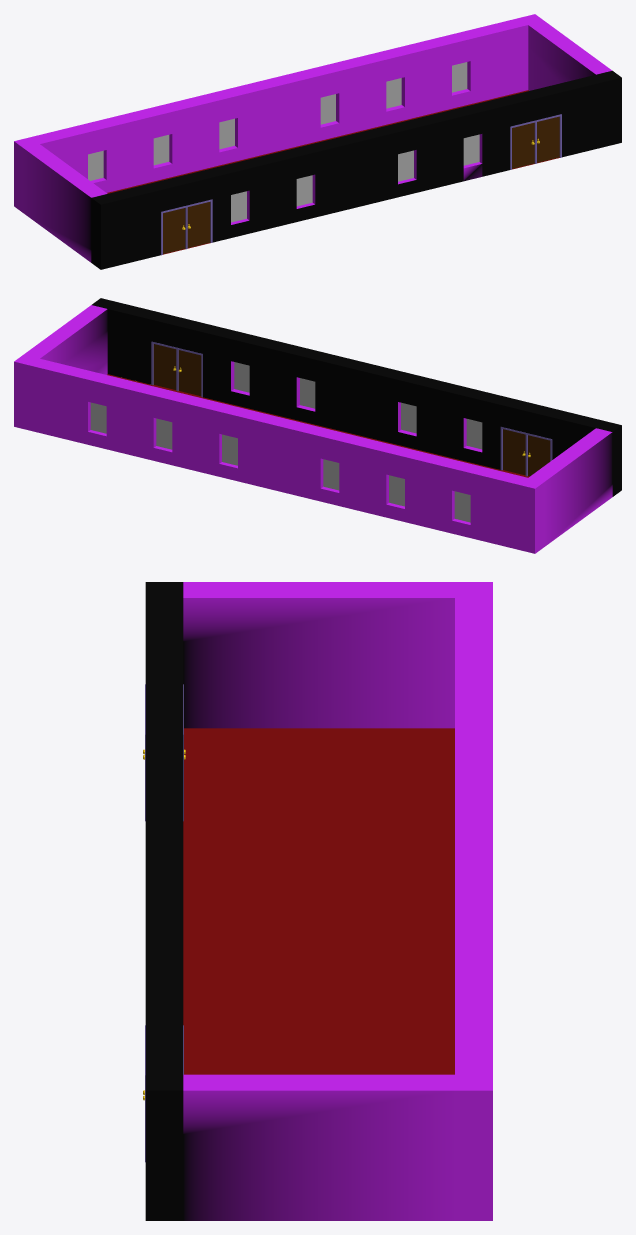
File: WR Walls Windows Floor Double Doors.fbx
The picture shows the model from 3 angles, top to bottom: view 1: azimuth 30°, elevation 25°; view 2: azimuth 150°, elevation 25°; view 3: azimuth 270°, elevation 25°; orthographic projection. The views are drawn at different scales.
Visible parts, largest first — view 1: WR1 Front Wall w Windows, WR1 Double Doors 1, WR1 Double Doors 2, WR1 Floor, WR1 Front Window1, WR1 Front Window3, WR1 Back Window4, WR1 Double Doorway 1, WR1 Double Doorway 2, WR1 Front Window0, WR1 Front Window2, WR1 Back Window1 (+4 smaller); view 2: WR1 Front Wall w Windows, WR1 Double Doors 2, WR1 Double Doors 1, WR1 Floor, WR1 Back Window0, WR1 Back Window1, WR1 Back Window3, WR1 Back Window5, WR1 Front Window0, WR1 Double Doorway 2, WR1 Back Window2, WR1 Back Window4 (+4 smaller); view 3: WR1 Front Wall w Windows, WR1 Floor.
Part boxes in pixels (<box>): WR1 Front Wall w Windows: <box>14,14,621,269</box>; WR1 Double Doors 1: <box>163,202,210,253</box>; WR1 Double Doors 2: <box>512,116,559,168</box>; WR1 Floor: <box>107,90,559,254</box>; WR1 Front Window1: <box>296,175,312,206</box>; WR1 Front Window3: <box>463,134,479,165</box>; WR1 Back Window4: <box>153,135,169,165</box>; WR1 Double Doorway 1: <box>161,199,212,255</box>; WR1 Double Doorway 2: <box>510,114,561,169</box>; WR1 Front Window0: <box>231,191,246,222</box>; WR1 Front Window2: <box>398,150,413,181</box>; WR1 Back Window1: <box>386,78,401,108</box>; WR1 Front Wall w Windows: <box>14,298,621,553</box>; WR1 Double Doors 2: <box>153,344,201,396</box>; WR1 Double Doors 1: <box>503,429,550,476</box>; WR1 Floor: <box>107,374,529,477</box>; WR1 Back Window0: <box>90,402,106,433</box>; WR1 Back Window1: <box>156,418,172,449</box>; WR1 Back Window3: <box>323,459,339,490</box>; WR1 Back Window5: <box>454,491,470,522</box>; WR1 Front Window0: <box>466,419,482,449</box>; WR1 Double Doorway 2: <box>151,341,202,397</box>; WR1 Back Window2: <box>222,434,237,465</box>; WR1 Back Window4: <box>389,475,404,506</box>; WR1 Front Wall w Windows: <box>145,582,492,1220</box>; WR1 Floor: <box>183,728,454,1074</box>.
Bounding box in the file's own units: 1270 × 152 × 369.
